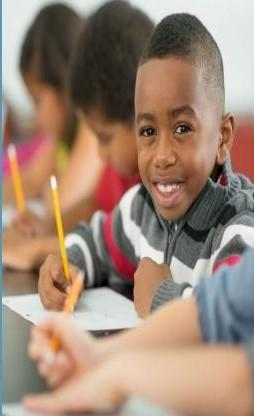good: (16, 8, 245, 337)
